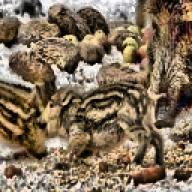boar: (130, 0, 192, 128)
